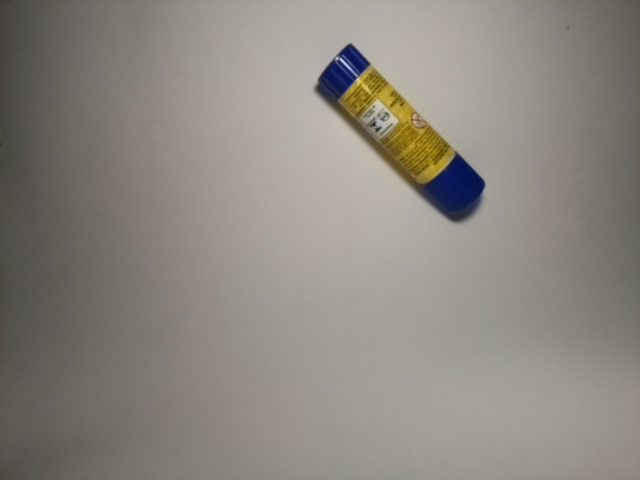Cola: (305, 40, 488, 220)
